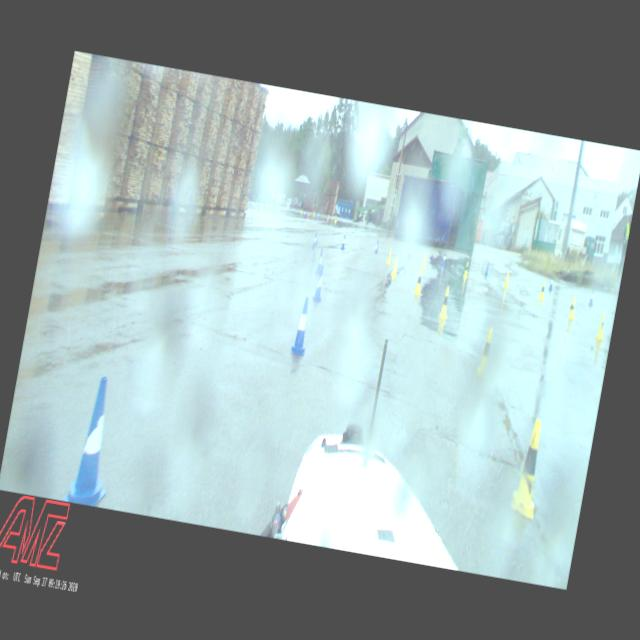blue_cone: (61, 372, 125, 506), (290, 296, 314, 356), (312, 266, 326, 302), (316, 250, 324, 270), (588, 287, 594, 304), (548, 274, 554, 290), (484, 260, 489, 275), (312, 233, 317, 247), (441, 252, 446, 266), (341, 235, 346, 248), (374, 240, 379, 252)
yellow_cone: (510, 417, 550, 518), (476, 326, 492, 375), (438, 286, 452, 319), (595, 311, 607, 340), (414, 269, 424, 293), (568, 296, 578, 318), (390, 255, 400, 277), (538, 280, 546, 298), (385, 247, 392, 265), (420, 252, 427, 268), (463, 262, 469, 278), (504, 272, 509, 288)
